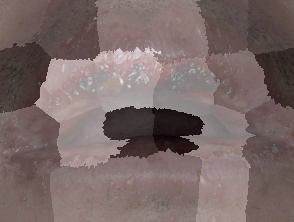SJS-TEN: (3, 39, 294, 167)
